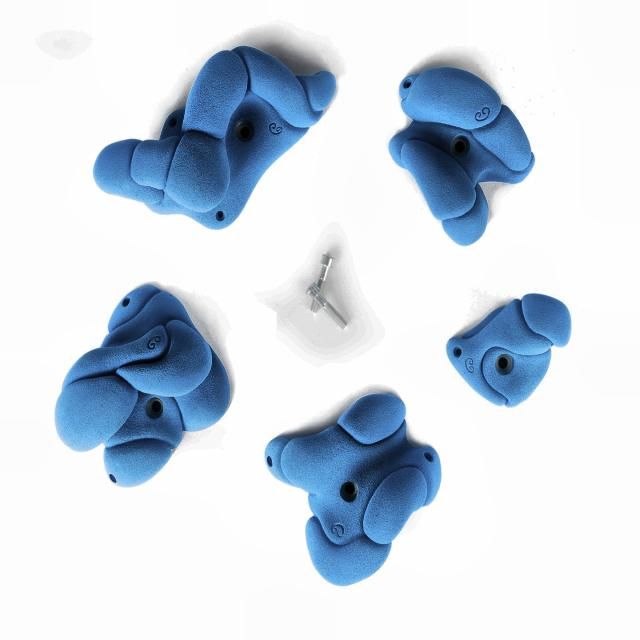Hold: (92, 47, 340, 231), (260, 392, 448, 587), (54, 282, 230, 482), (390, 68, 540, 248), (444, 288, 574, 413)
